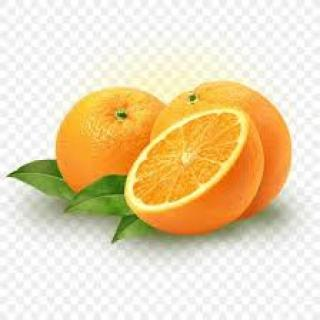orange: (144, 84, 312, 212), (116, 109, 270, 241), (48, 74, 176, 198)
